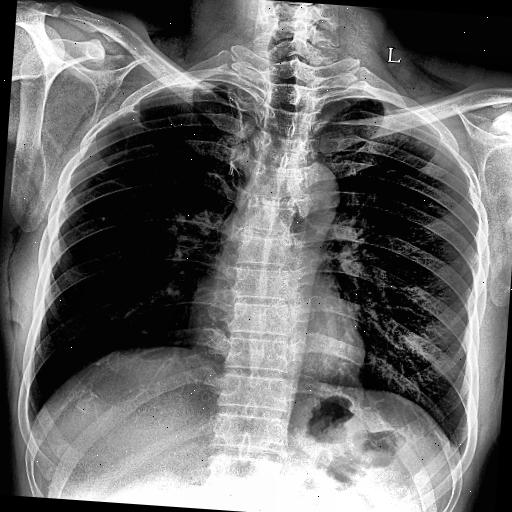11- Pleural thickening: (122, 69, 240, 102)
13- Pulmonary fibrosis: (122, 102, 200, 192)
2- Calcification: (118, 105, 164, 138)
7- Lung Opacity: (120, 96, 164, 134), (219, 148, 245, 180)
